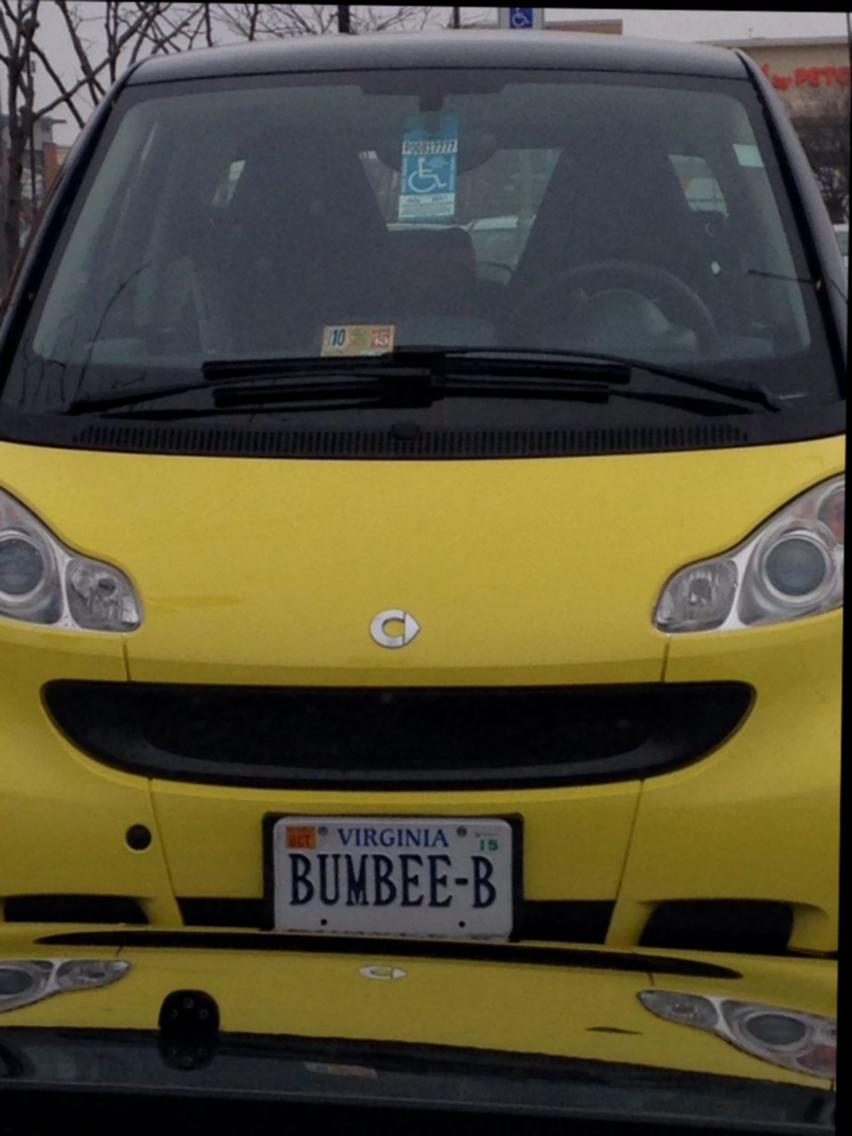License_Plate: (263, 802, 532, 946)
